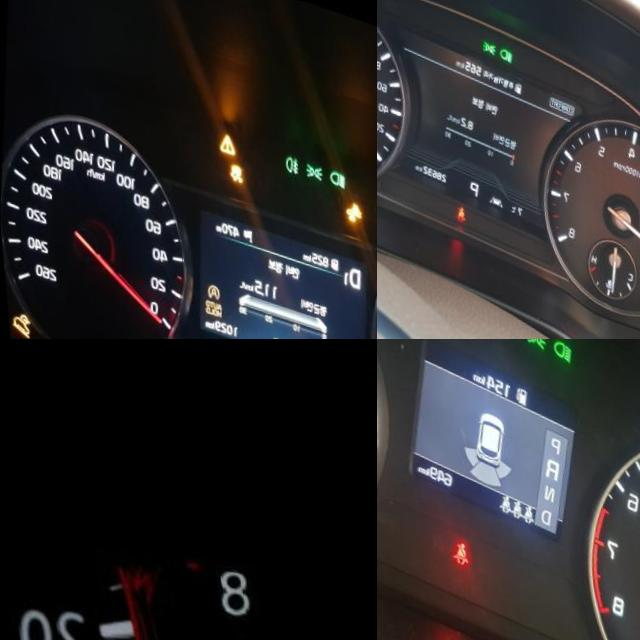Central Warning lamp: (216, 120, 236, 145)
FrontFogLight: (282, 139, 298, 161)
Low beam: (326, 152, 344, 173), (496, 30, 512, 49), (548, 339, 573, 351)
SideLamp: (303, 146, 323, 165), (478, 23, 496, 42)
